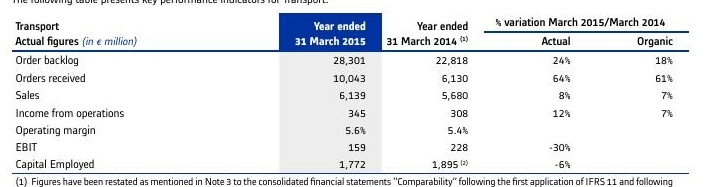table: (0, 0, 706, 187)
